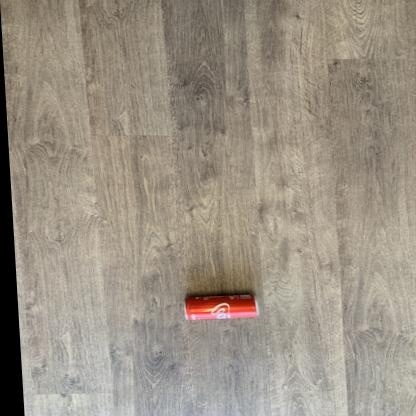trash: (185, 294, 256, 319)
